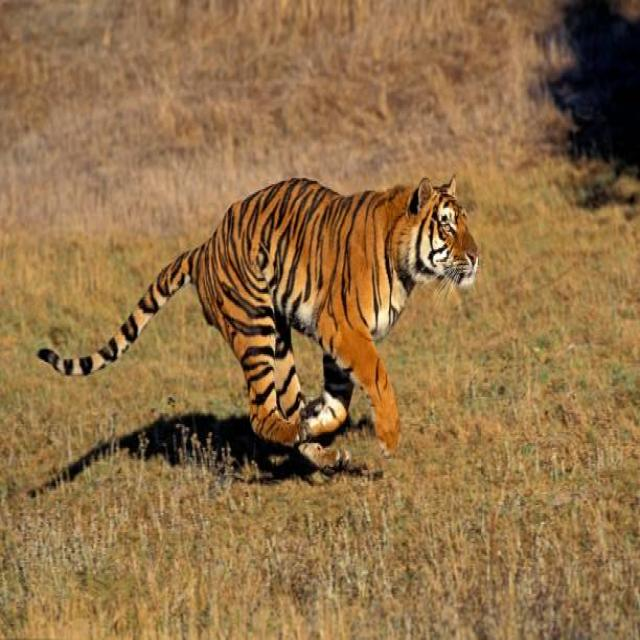not_pig: (36, 170, 479, 475)
